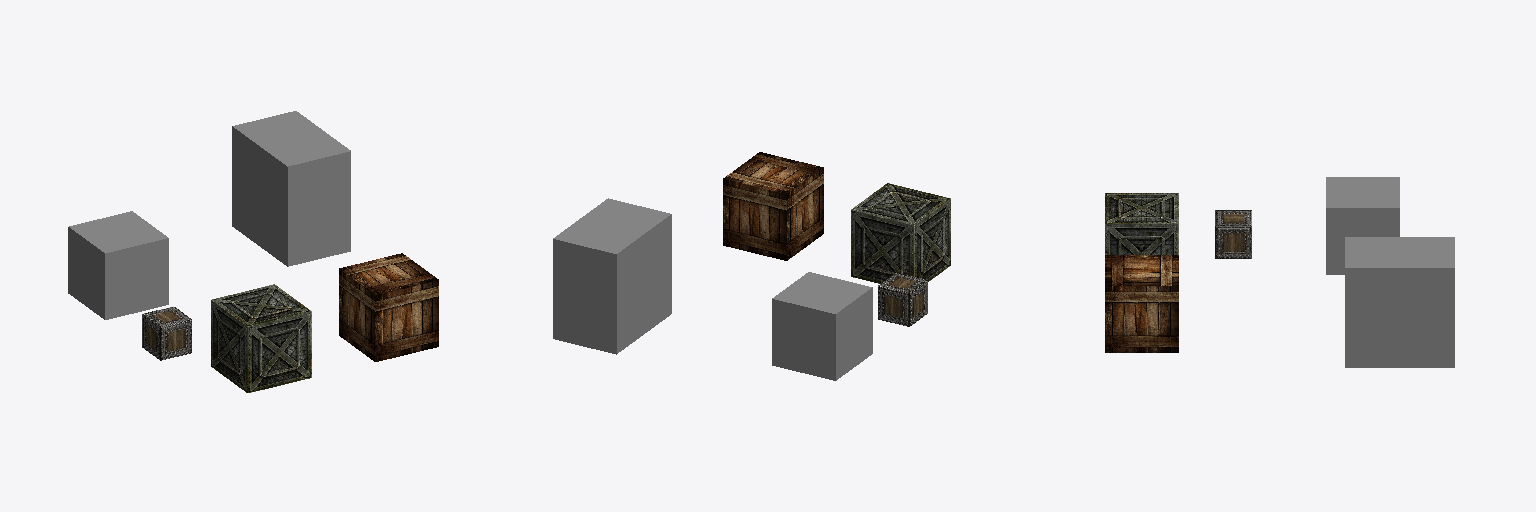
3 renders of one model, left to right at view 1: azimuth 30°, elevation 25°; view 2: azimuth 150°, elevation 25°; view 3: azimuth 270°, elevation 25°, orthographic.
Parts seen in each view (by area): view 1: BoxG2, BoxSingle, BoxAttach; view 2: BoxG2, BoxSingle, BoxAttach; view 3: BoxSingle, BoxG2, BoxAttach.
Boxes of the visible parts, <box> form: BoxG2: <box>211,253,438,392</box>; BoxSingle: <box>232,111,350,266</box>; BoxAttach: <box>68,211,191,360</box>; BoxG2: <box>723,152,950,283</box>; BoxSingle: <box>553,198,671,354</box>; BoxAttach: <box>772,272,927,380</box>; BoxSingle: <box>1345,237,1454,367</box>; BoxG2: <box>1105,193,1178,352</box>; BoxAttach: <box>1215,177,1399,274</box>.
Bounding box in the file's own units: 8 × 3 × 9.5.
Materials: 5 (3 with a texture image).